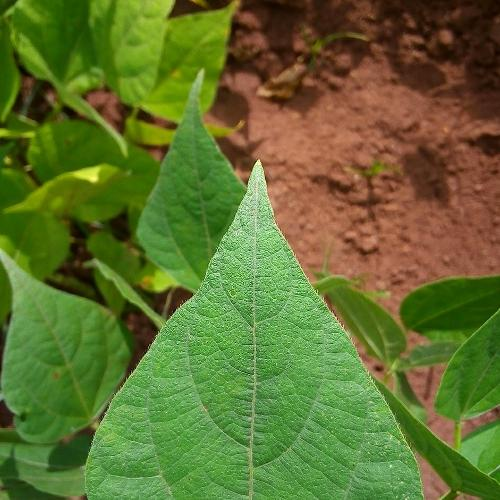sehat: (72, 294, 394, 500)
